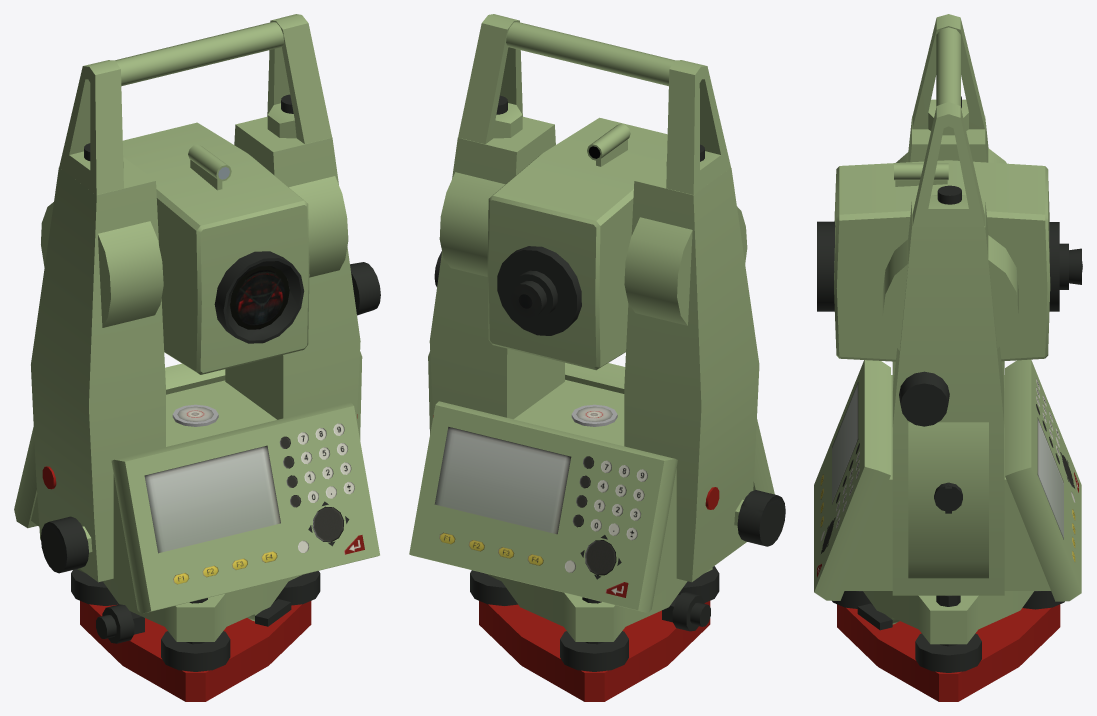
Rendered from Leica.FBX.
3 renders of one model, left to right at view 1: azimuth 30°, elevation 25°; view 2: azimuth 150°, elevation 25°; view 3: azimuth 270°, elevation 25°, orthographic. The views are drawn at different scales.
Visible parts, largest first — view 1: upper_body, telescope, tribrach; view 2: upper_body, telescope, tribrach; view 3: upper_body, telescope, tribrach.
Boxes of the visible parts, x1,y1,x2,y2 form: upper_body: (14, 14, 380, 613); telescope: (122, 122, 309, 374); tribrach: (71, 568, 320, 701); upper_body: (409, 14, 785, 612); telescope: (487, 117, 667, 370); tribrach: (470, 566, 719, 701); upper_body: (814, 14, 1081, 601); telescope: (817, 160, 1082, 361); tribrach: (832, 591, 1064, 701).
Bounding box in the file's own units: 19.58 × 14.75 × 35.49.
1 material, 1 textured.
